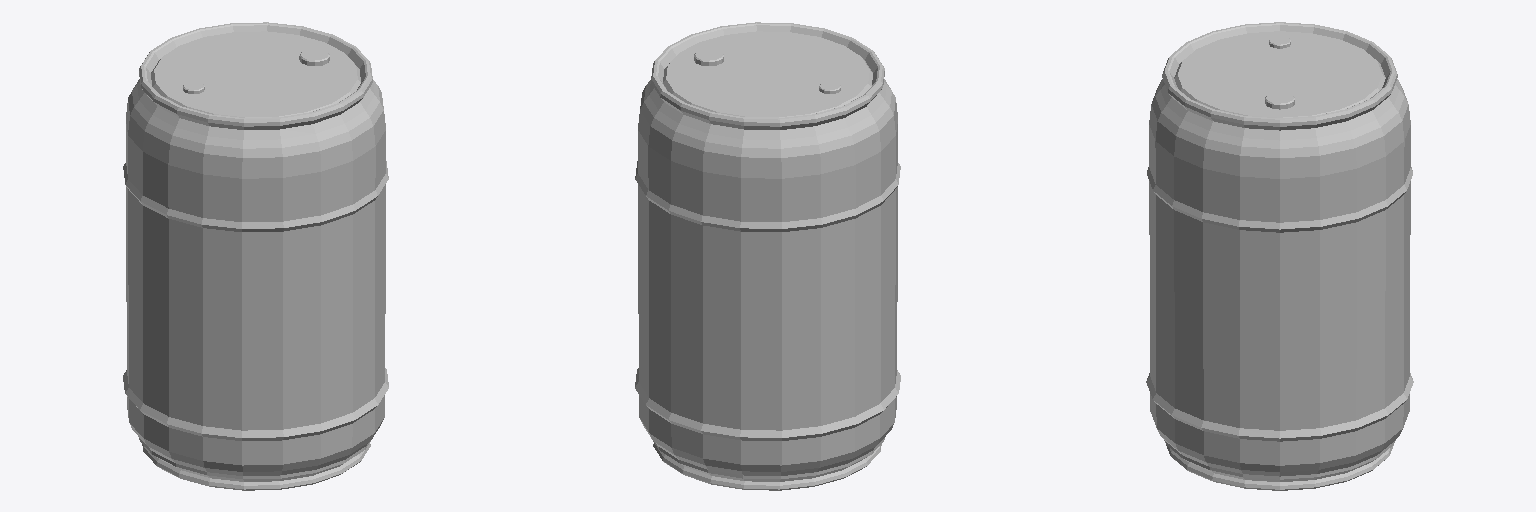
File: plastic barrel.obj
3 views of the same model, side by side, from view 1: azimuth 30°, elevation 25°; view 2: azimuth 150°, elevation 25°; view 3: azimuth 270°, elevation 25° (orthographic).
Parts seen in each view (by area): view 1: PlasticBarrel; view 2: PlasticBarrel; view 3: PlasticBarrel.
Part boxes in pixels (bbox=[...]): PlasticBarrel: bbox=[123, 22, 388, 490]; PlasticBarrel: bbox=[635, 22, 900, 490]; PlasticBarrel: bbox=[1146, 22, 1413, 490].
Size of the model in its own units: 56.88 by 87.68 by 56.88.